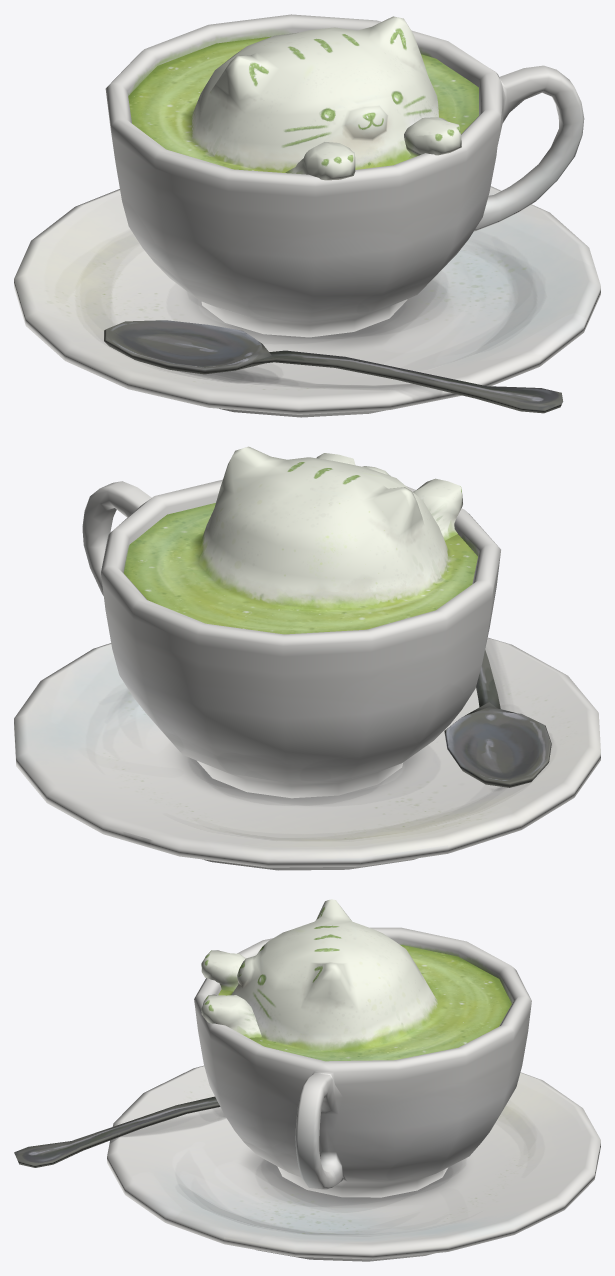
Rendered from drink3.glb.
The picture shows the model from 3 angles, top to bottom: view 1: azimuth 30°, elevation 25°; view 2: azimuth 150°, elevation 25°; view 3: azimuth 270°, elevation 25°; orthographic projection. The views are drawn at different scales.
Visible parts, largest first — view 1: MatchaLatteMerged; view 2: MatchaLatteMerged; view 3: MatchaLatteMerged.
Boxes of the visible parts, x1=… form: MatchaLatteMerged: x1=14, y1=14, x2=600, y2=417; MatchaLatteMerged: x1=14, y1=446, x2=600, y2=870; MatchaLatteMerged: x1=14, y1=899, x2=600, y2=1261.
Size of the model in its own units: 0.1043 by 0.0587 by 0.124.
Materials: 3 (3 with a texture image).
